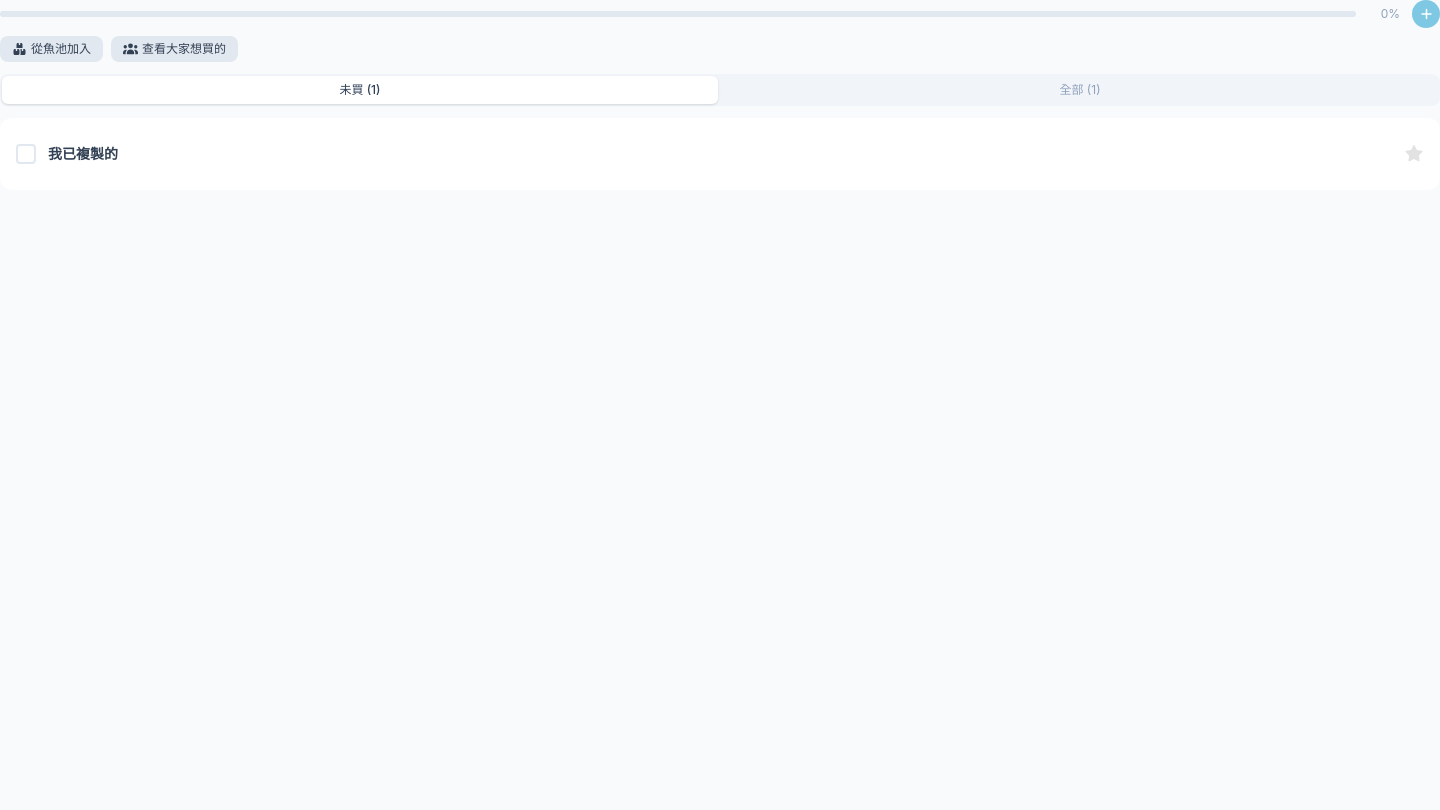
Test: ShoppingTab › marks already-copied wishes via copiedFrom after reopening
The image size is (1440, 810).
Click the button "查看大家想買的" at (174, 49), box [111,36,238,62]
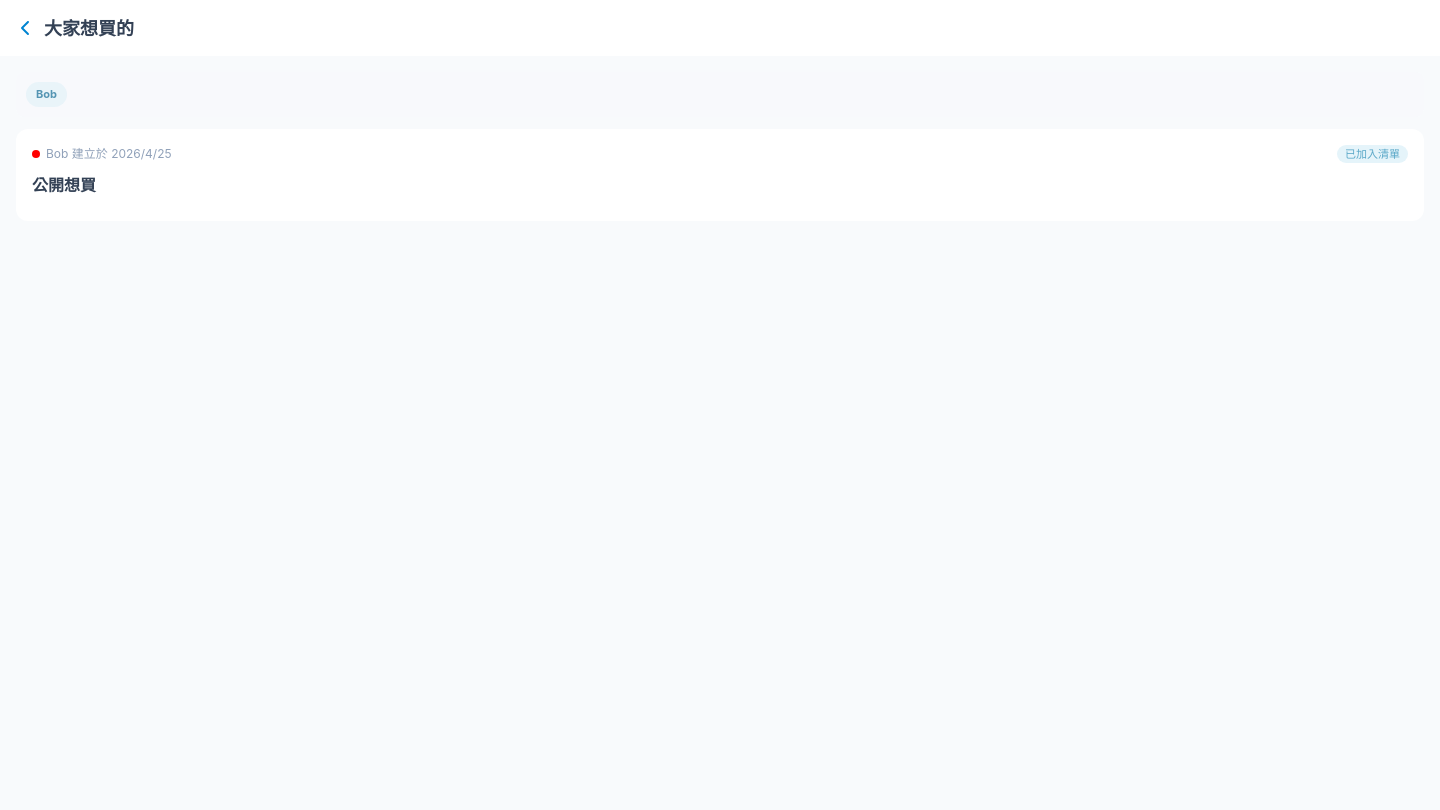
Expected: the text "已加入清單" is shown, [1337,145,1408,163]
